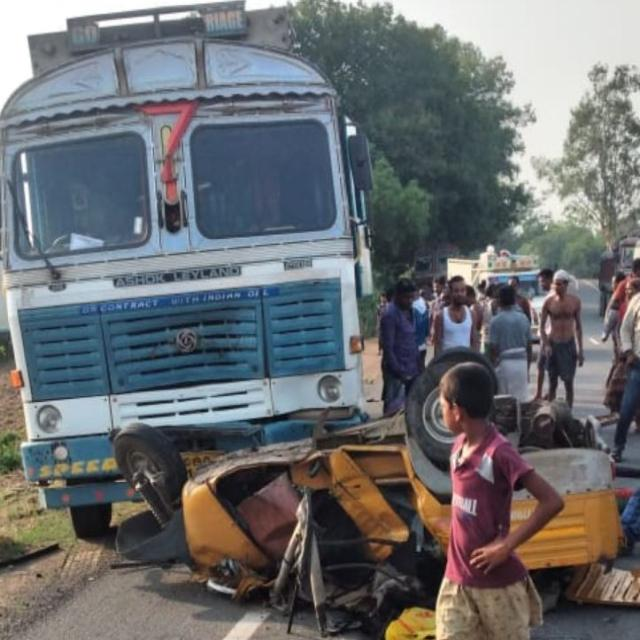accident: (114, 349, 622, 637)
truck: (0, 3, 371, 537)
